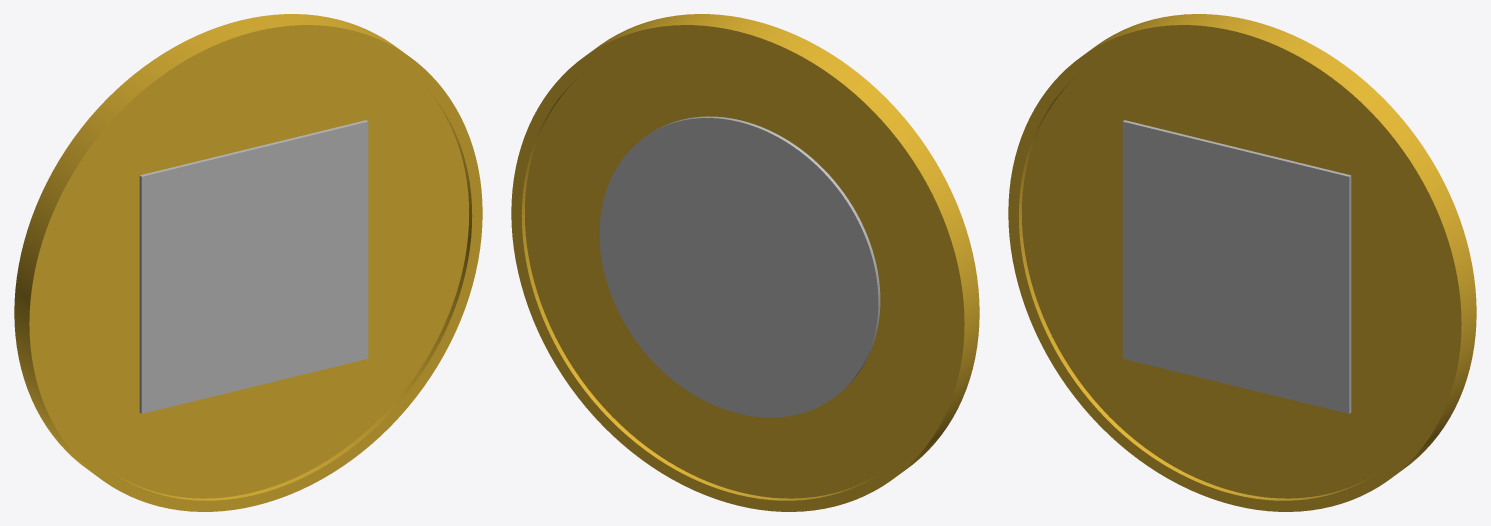
Rendered from coin.glb.
3 renders of one model, left to right at view 1: azimuth 30°, elevation 25°; view 2: azimuth 150°, elevation 25°; view 3: azimuth 330°, elevation 25°, orthographic.
Parts seen in each view (by area): view 1: coin; view 2: coin; view 3: coin.
Part boxes in pixels (x1,y1,x2,y2): coin: [14, 14, 482, 511]; coin: [511, 14, 979, 511]; coin: [1008, 14, 1476, 511].
Bounding box in the file's own units: 26 × 26 × 1.5.
